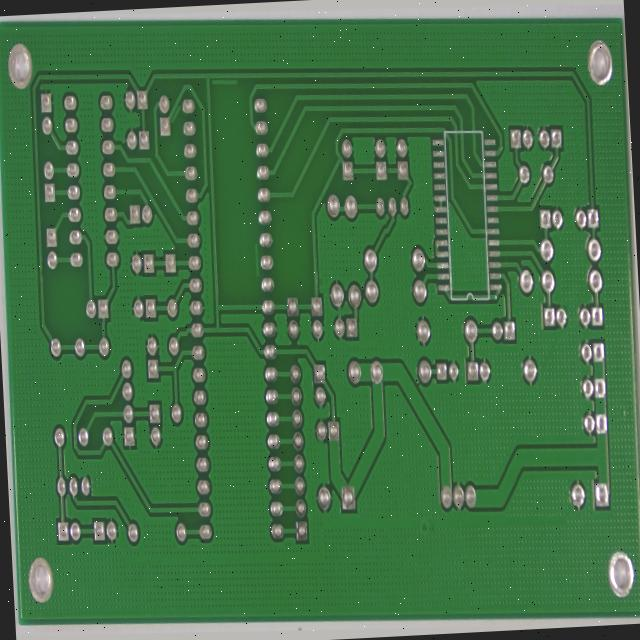spurious_copper: (204, 66, 239, 88), (250, 239, 262, 282), (165, 98, 182, 125)
